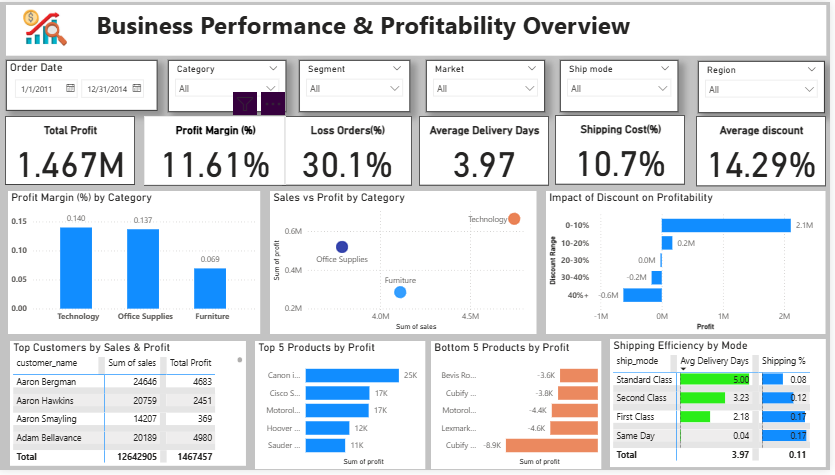

The page's visual inventory and layout, read from the dashboard file:
{"tool":"powerbi","page":{"name":"Page 3","canvas":[1280,720],"ordinal":1},"visuals":[{"type":"textbox","box":[11.7,5,1261.7,78.3],"z":0},{"type":"slicer","title":"Order Date","fields":{"Values":["sales.order_date"]},"box":[12.9,89,233.3,78.3],"z":1000},{"type":"slicer","fields":{"Values":["sales.segment"]},"box":[463.1,89.2,170.8,80],"z":2000},{"type":"slicer","fields":{"Values":["sales.category"]},"box":[261.2,89,181.7,80],"z":3000},{"type":"slicer","fields":{"Values":["sales.market"]},"box":[658.5,89.2,183.1,80],"z":4000},{"type":"slicer","fields":{"Values":["sales.ship_mode"]},"box":[864.6,89.2,181.5,80],"z":5000},{"type":"slicer","fields":{"Values":["sales.region"]},"box":[1076.7,90,195,80],"z":6000},{"type":"card","title":"Shipping Cost(%)","fields":{"Values":["sales.Shipping %"]},"box":[856.2,173.2,200,107.5],"z":7000},{"type":"card","title":"Loss Orders(%)","fields":{"Values":["sales.Loss Orders %"]},"box":[437.5,174.6,200,107.1],"z":8000},{"type":"card","title":"Average Delivery Days","fields":{"Values":["sales.Avg Delivery Days"]},"box":[647.5,174.6,200,107.1],"z":9000},{"type":"card","title":"Average discount","fields":{"Values":["sales.Avg Discount"]},"box":[1073.8,175.4,200,107.7],"z":10000},{"type":"card","title":"Profit Margin (%)","fields":{"Values":["sales.Profit Margin %"]},"box":[225,175,218.3,106.7],"z":11000},{"type":"clusteredColumnChart","title":"Profit Margin (%) by Category","fields":{"Category":["sales.category"],"Y":["sales.Profit Margin %"]},"box":[15,290,388.3,220],"z":12000},{"type":"barChart","title":"   Impact of Discount on Profitability","fields":{"Category":["sales.Discount Range"],"Y":["Sum(sales.profit)"]},"box":[843.3,290,430,220],"z":13000},{"type":"barChart","title":"Top 5 Products by Profit","fields":{"Y":["Sum(sales.profit)"],"Category":["sales.product_name"]},"box":[395,521.7,261.7,196.7],"z":14000},{"type":"scatterChart","title":"Sales vs Profit by Category","fields":{"Series":["sales.category"],"X":["Sum(sales.sales)"],"Y":["Sum(sales.profit)"]},"box":[418.3,290,410,220],"z":15000},{"type":"card","title":"Total Profit","fields":{"Values":["sales.Total Profit"]},"box":[11.4,174.7,200,106],"z":16000},{"type":"pivotTable","title":"Shipping Efficiency by Mode","fields":{"Rows":["sales.ship_mode"],"Values":["sales.Avg Delivery Days","sales.Shipping %"]},"box":[941.7,518.3,331.7,196.7],"z":17000},{"type":"pivotTable","title":"Top Customers by Sales & Profit","fields":{"Rows":["sales.customer_name"],"Values":["Sum(sales.sales)","sales.Total Profit"]},"box":[18.3,521.7,363.3,191.7],"z":18000},{"type":"barChart","title":"Bottom 5 Products by Profit","fields":{"Y":["Sum(sales.profit)"],"Category":["sales.product_name"]},"box":[666.7,521.7,261.7,196.7],"z":19000},{"type":"image","box":[34.3,0,77.1,78.6],"z":20000}]}

Visuals, with their boxes in screenshot pixels (x1, y1, x2, y2), scaled from the page's 1280x720 canvas onto the 835x475 screenshot:
textbox: <box>8,3,831,55</box>
"Order Date" slicer: <box>8,59,161,110</box>
slicer - sales.segment: <box>302,59,414,112</box>
slicer - sales.category: <box>170,59,289,111</box>
slicer - sales.market: <box>430,59,549,112</box>
slicer - sales.ship_mode: <box>564,59,682,112</box>
slicer - sales.region: <box>702,59,830,112</box>
"Shipping Cost(%)" card: <box>559,114,689,185</box>
"Loss Orders(%)" card: <box>285,115,416,186</box>
"Average Delivery Days" card: <box>422,115,553,186</box>
"Average discount" card: <box>700,116,831,187</box>
"Profit Margin (%)" card: <box>147,115,289,186</box>
"Profit Margin (%) by Category" clusteredColumnChart: <box>10,191,263,336</box>
"   Impact of Discount on Profitability" barChart: <box>550,191,831,336</box>
"Top 5 Products by Profit" barChart: <box>258,344,428,474</box>
"Sales vs Profit by Category" scatterChart: <box>273,191,540,336</box>
"Total Profit" card: <box>7,115,138,185</box>
"Shipping Efficiency by Mode" pivotTable: <box>614,342,831,472</box>
"Top Customers by Sales & Profit" pivotTable: <box>12,344,249,471</box>
"Bottom 5 Products by Profit" barChart: <box>435,344,606,474</box>
image: <box>22,0,73,52</box>
